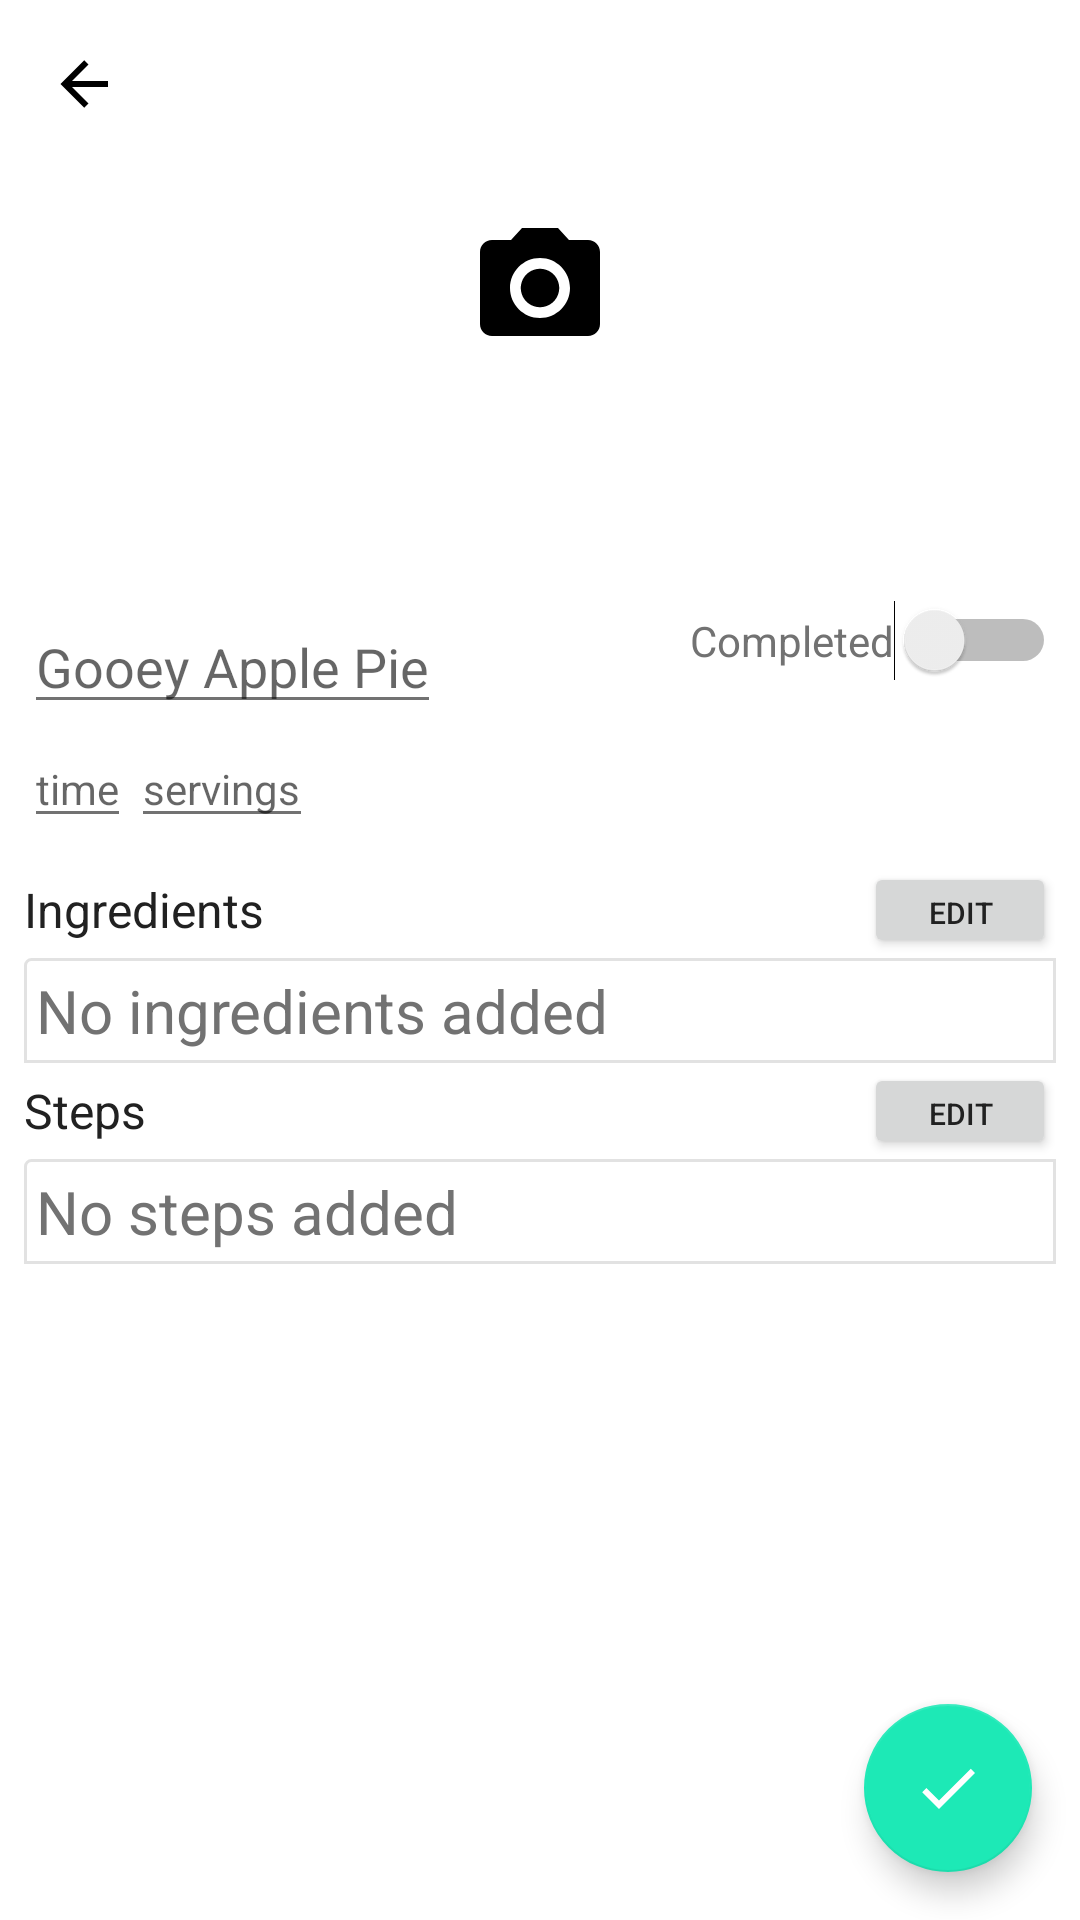

Screen size 1080*1920. Icon name, then its box in pixels as (x1, y1, x2, y2):
camera: (480, 228, 600, 336)
done: (864, 1704, 1032, 1872)
